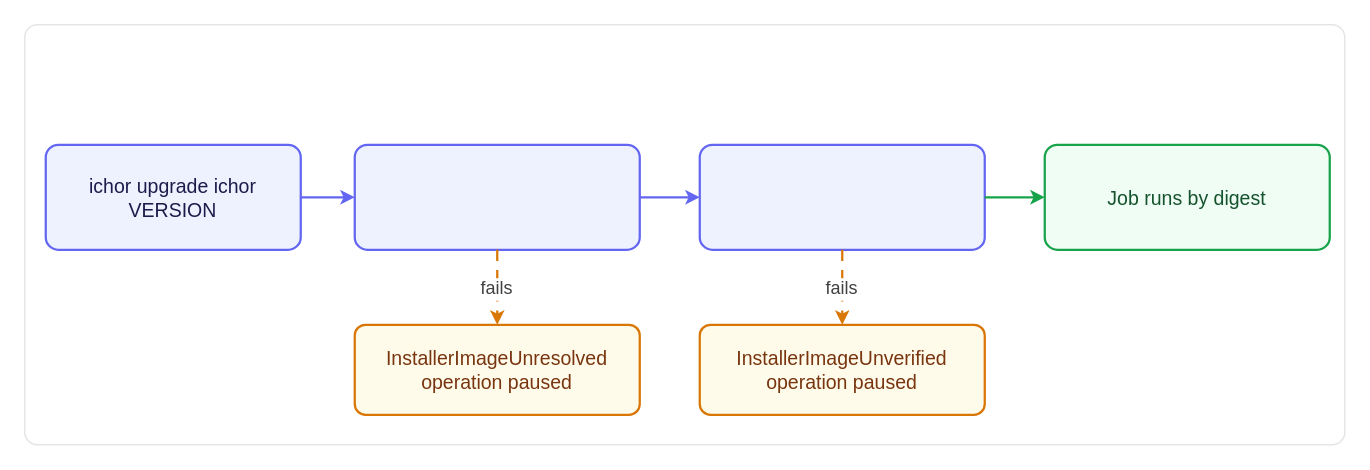
This 1370x470 diagram has some shape labels left out. Each missing label, with the box of its shape:
Resolve tag to digest or --installer-digest: (353, 143, 640, 250)
Verify cosign signature offline, trusted root: (698, 143, 985, 250)
